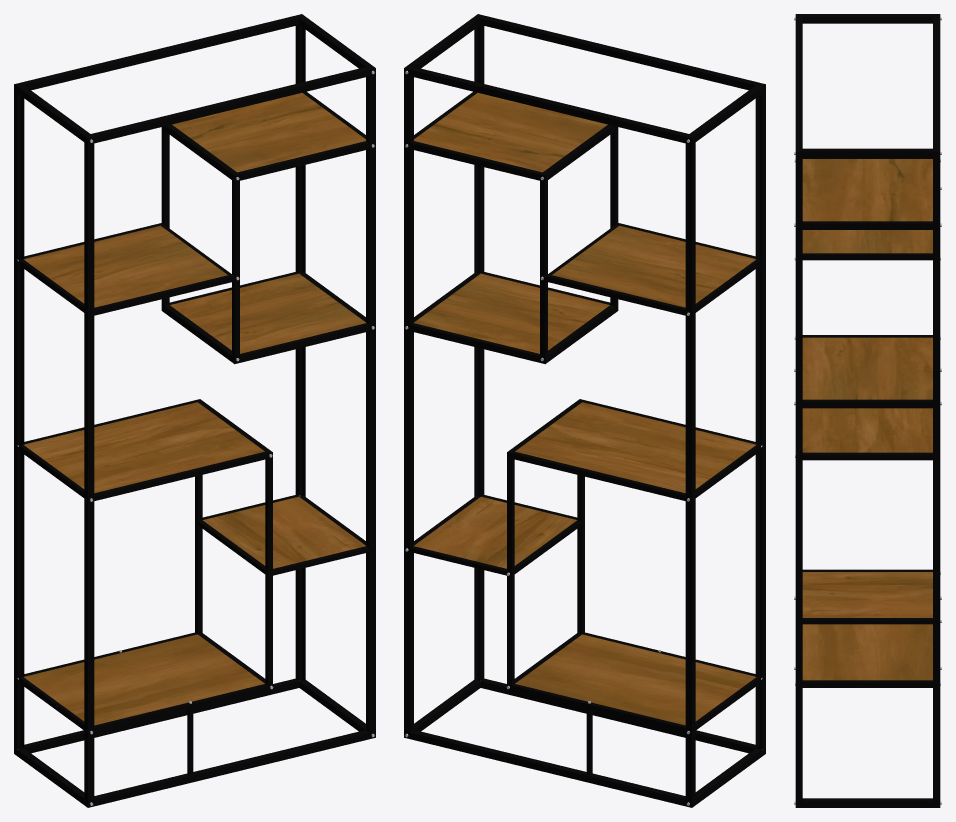
The model's file is bookshelf-v2.glb.
3 renders of one model, left to right at view 1: azimuth 30°, elevation 25°; view 2: azimuth 150°, elevation 25°; view 3: azimuth 270°, elevation 25°, orthographic. The views are drawn at different scales.
Visible parts, largest first — view 1: Book_Shelf_phong1SG1_0; view 2: Book_Shelf_phong1SG1_0; view 3: Book_Shelf_phong1SG1_0.
Boxes of the visible parts, bbox=[...] form: Book_Shelf_phong1SG1_0: bbox=[14, 14, 375, 807]; Book_Shelf_phong1SG1_0: bbox=[404, 14, 765, 807]; Book_Shelf_phong1SG1_0: bbox=[794, 14, 941, 807].
Size of the model in its own units: 0.9 by 2 by 0.4085.
Materials: 1 (1 with a texture image).
